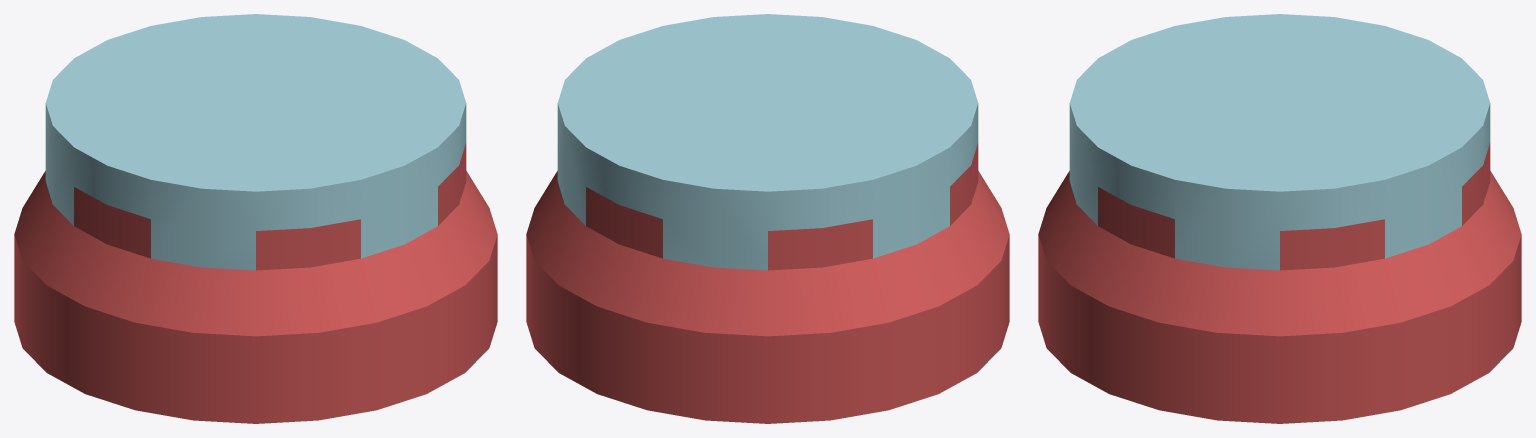
The model's file is towerRound_bottomC.dae.
3 renders of one model, left to right at view 1: azimuth 30°, elevation 25°; view 2: azimuth 150°, elevation 25°; view 3: azimuth 270°, elevation 25°, orthographic.
Visible parts, largest first — view 1: towerRound_bottomC; view 2: towerRound_bottomC; view 3: towerRound_bottomC.
Boxes of the visible parts, box(x1,y1,x2,y2) form: towerRound_bottomC: box(14, 14, 497, 423); towerRound_bottomC: box(526, 14, 1009, 423); towerRound_bottomC: box(1038, 14, 1521, 423).
Size of the model in its own units: 1 by 0.5 by 1.
